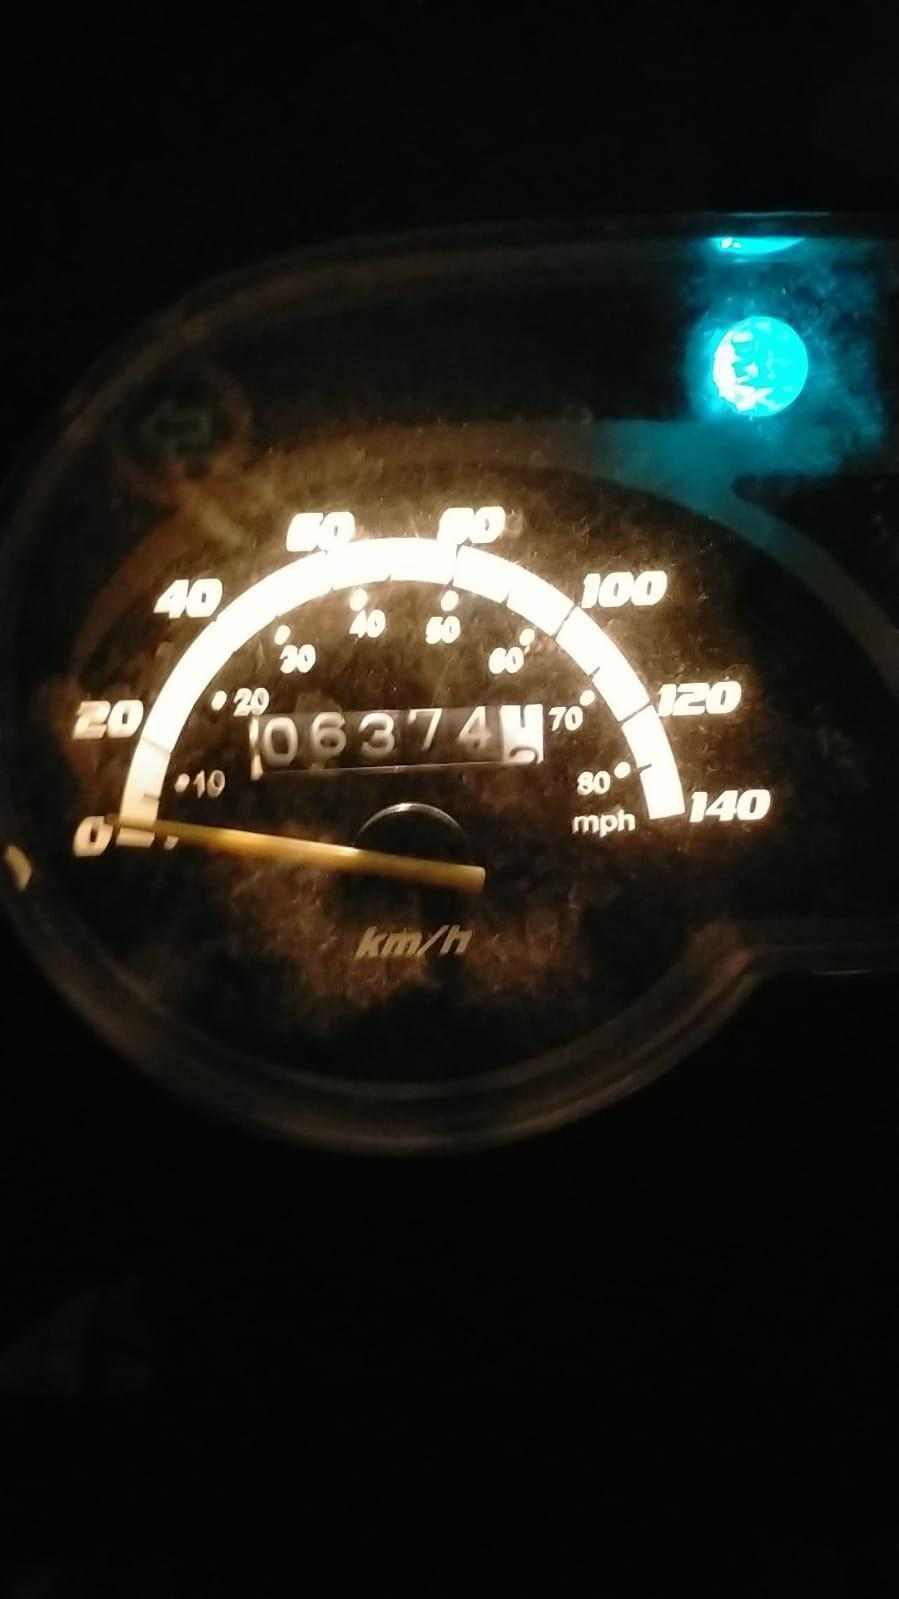0: (260, 718, 301, 769), (252, 684, 271, 715)
1: (512, 697, 537, 738)
3: (356, 708, 394, 759)
4: (456, 702, 494, 751)
6: (310, 707, 348, 760)
7: (404, 703, 446, 754), (549, 704, 568, 734)
odometer: (248, 686, 561, 781)
